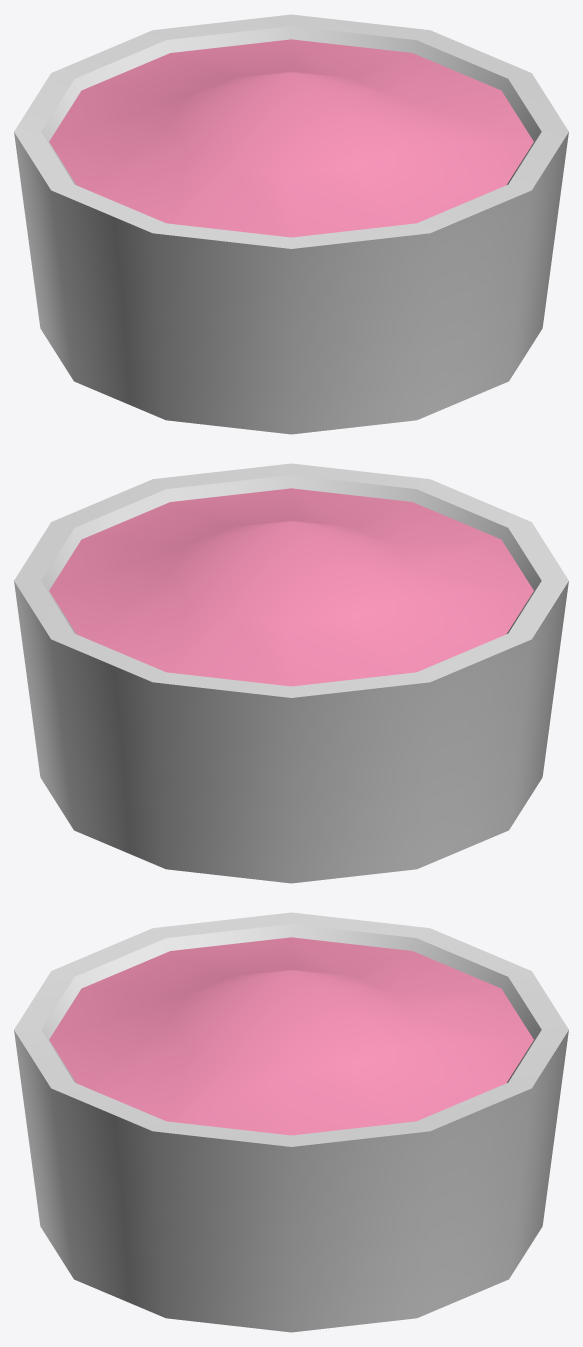
The model's file is DoubleCooked_SauceRiche.fbx.
3 renders of one model, top to bottom at view 1: azimuth 30°, elevation 25°; view 2: azimuth 150°, elevation 25°; view 3: azimuth 270°, elevation 25°, orthographic.
Parts seen in each view (by area): view 1: DoubleCooked_SauceRiche; view 2: DoubleCooked_SauceRiche; view 3: DoubleCooked_SauceRiche.
Boxes of the visible parts, <box> form: DoubleCooked_SauceRiche: <box>14,14,568,434</box>; DoubleCooked_SauceRiche: <box>14,463,568,883</box>; DoubleCooked_SauceRiche: <box>14,912,568,1332</box>.
Size of the model in its own units: 6.83 by 3.47 by 6.83.
1 material, 1 textured.
